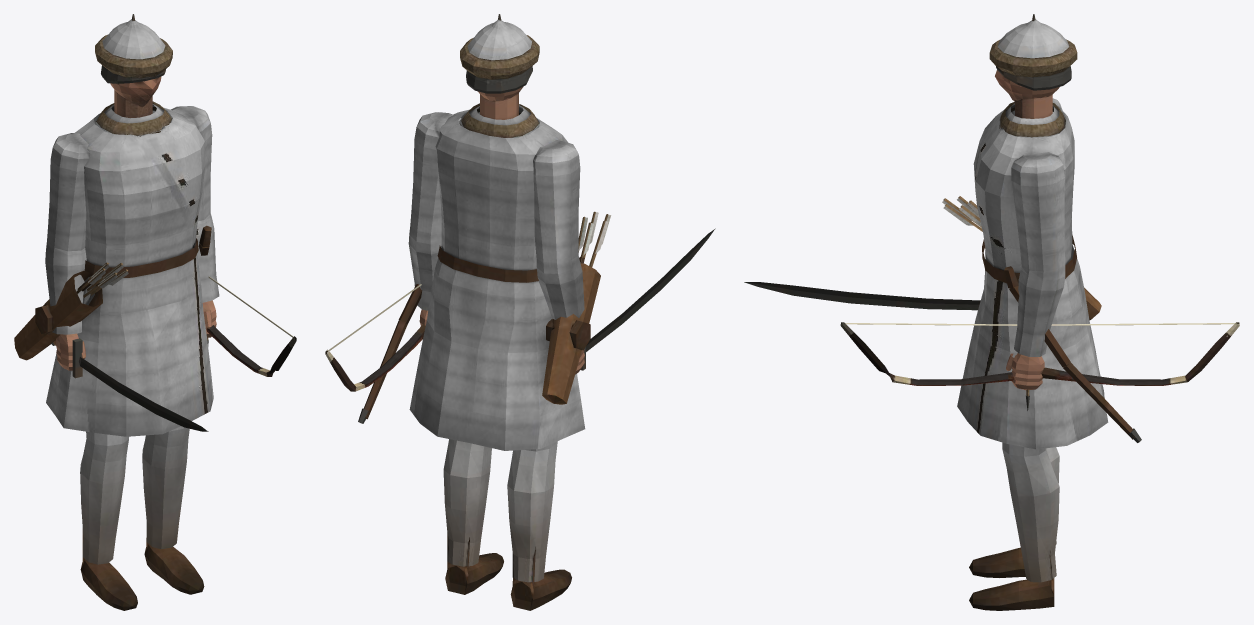
Rendered from horsearchers.glb.
The picture shows the model from 3 angles, left to right: view 1: azimuth 30°, elevation 25°; view 2: azimuth 150°, elevation 25°; view 3: azimuth 270°, elevation 25°; orthographic projection. The views are drawn at different scales.
Visible parts, largest first — view 1: horsearchers_LOD0; view 2: horsearchers_LOD0; view 3: horsearchers_LOD0.
Boxes of the visible parts, left/top/right/bottom form: horsearchers_LOD0: left=14, top=14, right=296, bottom=610; horsearchers_LOD0: left=325, top=14, right=715, bottom=610; horsearchers_LOD0: left=744, top=14, right=1239, bottom=610.
Size of what is drawn, in the model's own units: 0.5842 by 1.8 by 1.4.
Materials: 1 (1 with a texture image).
